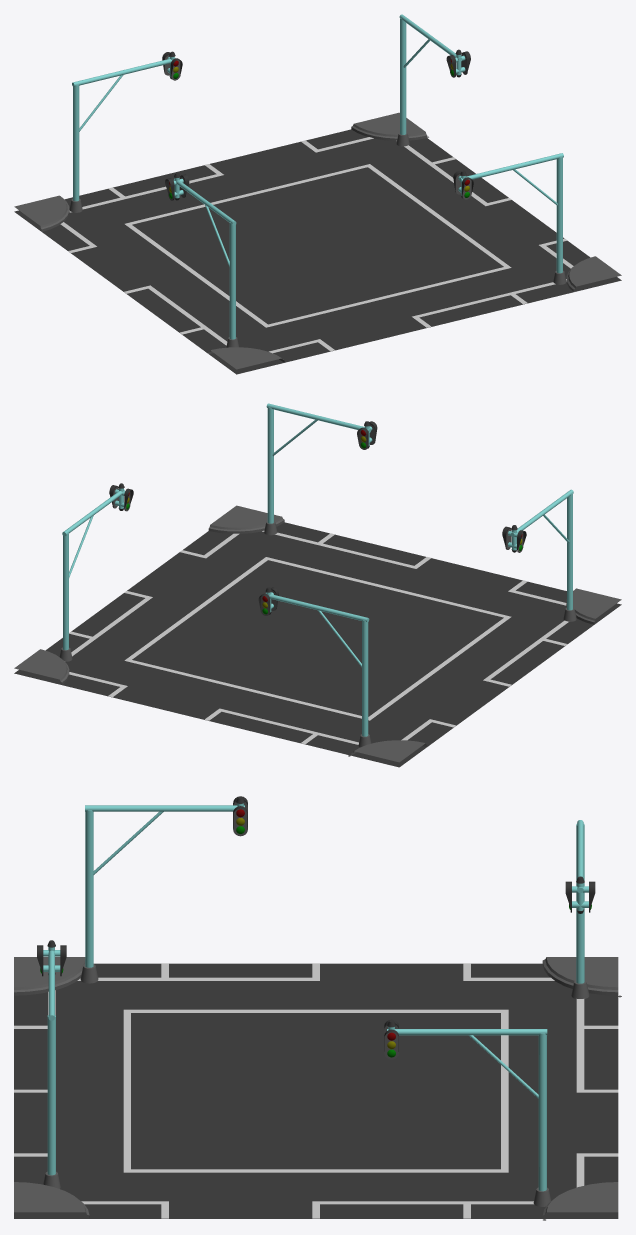
File: Intersection.fbx
3 views of the same model, one above another, from view 1: azimuth 30°, elevation 25°; view 2: azimuth 150°, elevation 25°; view 3: azimuth 270°, elevation 25° (orthographic). The views are drawn at different scales.
Parts seen in each view (by area): view 1: Intersection; view 2: Intersection; view 3: Intersection.
Part boxes in pixels (<box>): Intersection: <box>14,14,621,374</box>; Intersection: <box>14,403,621,767</box>; Intersection: <box>14,796,621,1220</box>.
Size of the model in its own units: 1610 by 532 by 1610.
